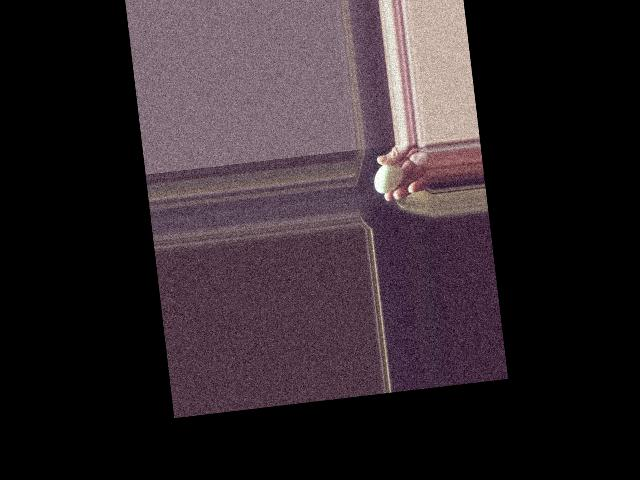egg: (372, 162, 405, 194)
